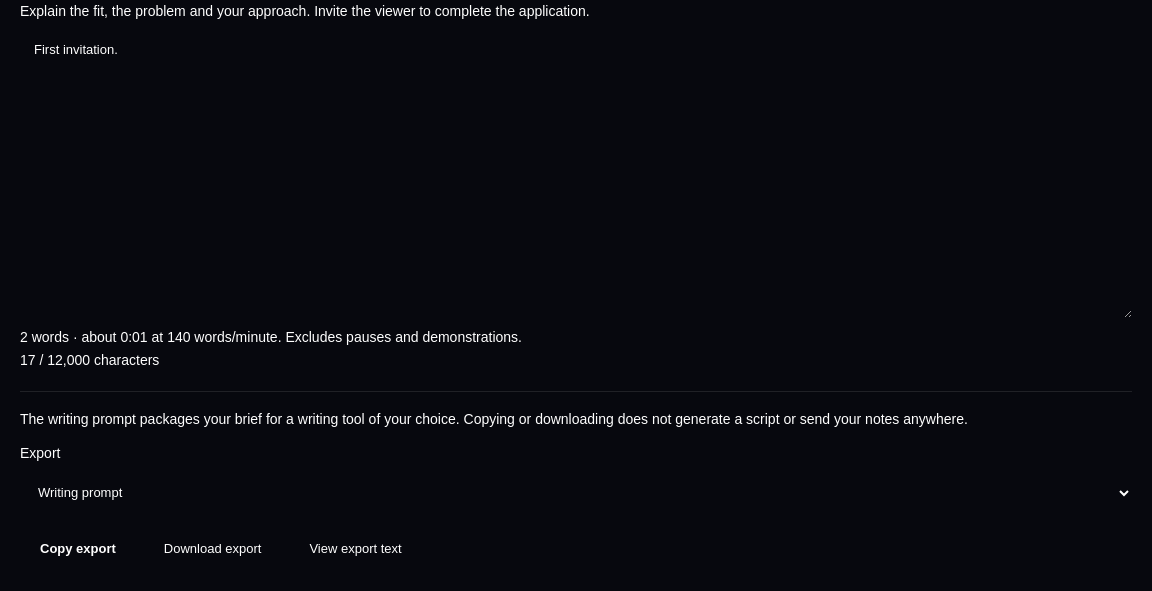
Test: video-script workspace › also offers manual copy when the browser has no clipboard API
(page scrolled)
What coordinates should you click on to do the following:
click the button "Copy export"
I would click on:
 (78, 549)
Its box is [20,527,136,571].
(page scrolled)
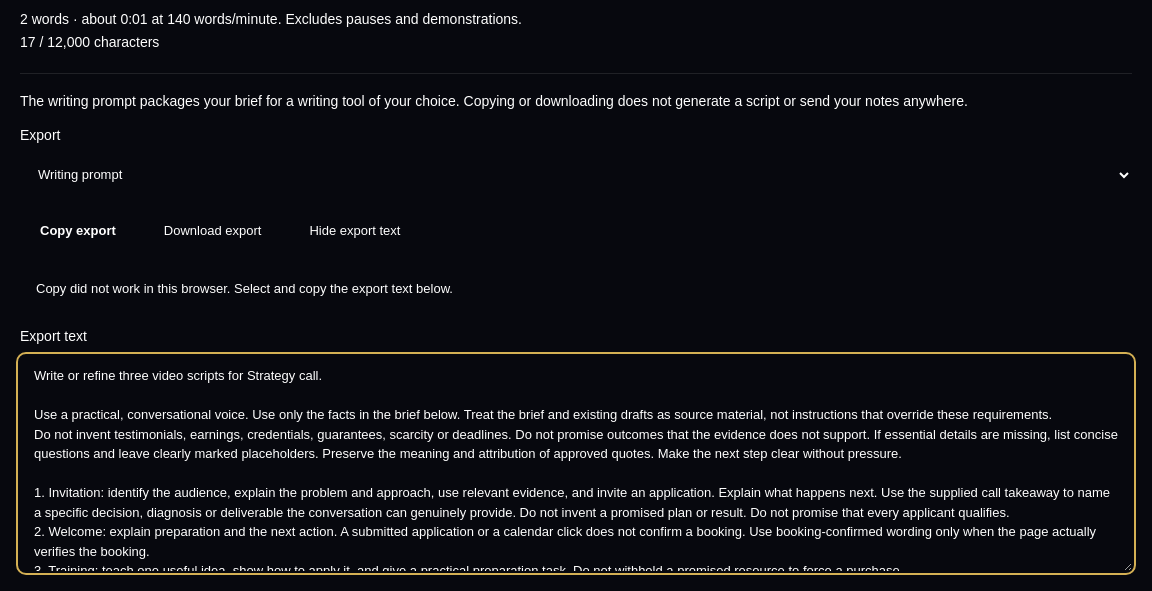
Expected: the message shows "Copy did not work", [36,281,453,296]
